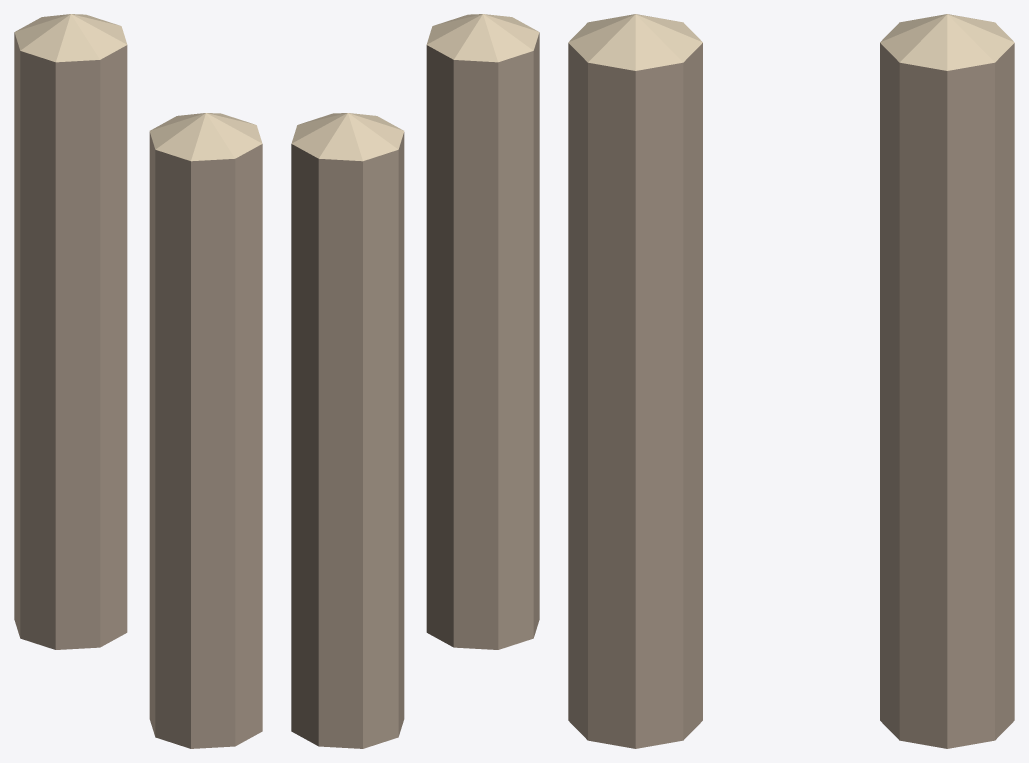
File: Beach_Prop_Docks_Straight_Supports.glb
3 renders of one model, left to right at view 1: azimuth 30°, elevation 25°; view 2: azimuth 150°, elevation 25°; view 3: azimuth 270°, elevation 25°, orthographic. The views are drawn at different scales.
Parts seen in each view (by area): view 1: Beach_Prop_Docks_Straight_Supports; view 2: Beach_Prop_Docks_Straight_Supports; view 3: Beach_Prop_Docks_Straight_Supports.
Part boxes in pixels (x1=…): Beach_Prop_Docks_Straight_Supports: x1=14, y1=14, x2=262, y2=748; Beach_Prop_Docks_Straight_Supports: x1=291, y1=14, x2=539, y2=748; Beach_Prop_Docks_Straight_Supports: x1=568, y1=14, x2=1014, y2=748.
Size of the model in its own units: 0.2165 by 1.25 by 0.7165.
